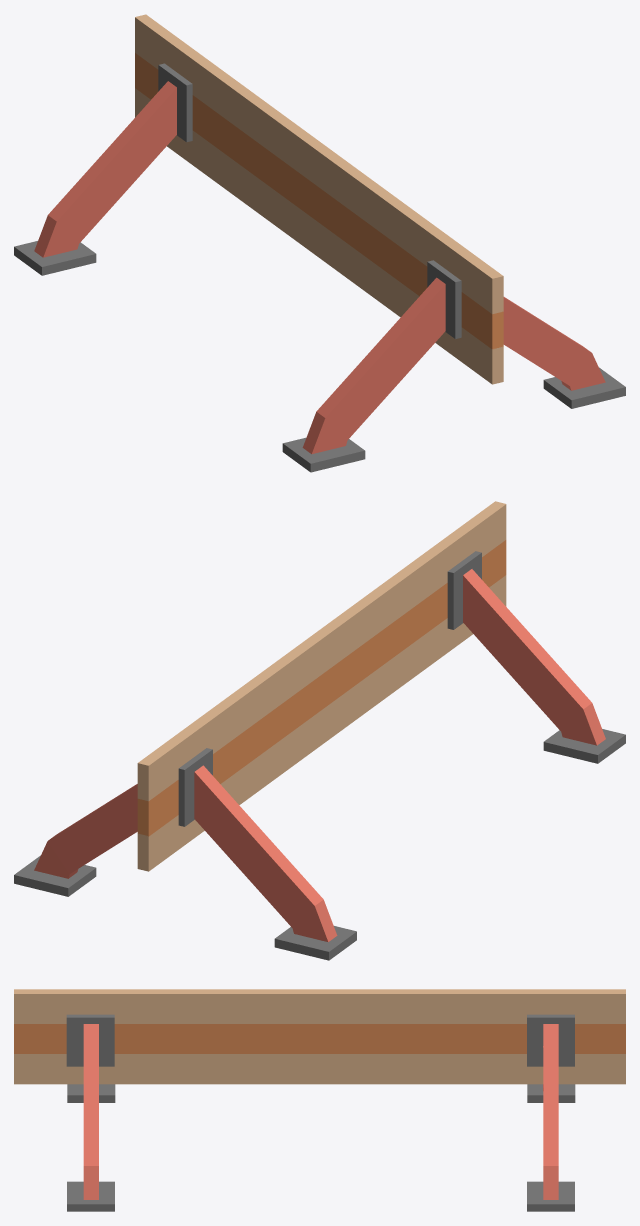
Rendered from stopper.fbx.
3 views of the same model, one above another, from view 1: azimuth 30°, elevation 25°; view 2: azimuth 150°, elevation 25°; view 3: azimuth 270°, elevation 25° (orthographic). The views are drawn at different scales.
Visible parts, largest first — view 1: Cube.013; view 2: Cube.013; view 3: Cube.013.
Part boxes in pixels (x1=…): Cube.013: x1=14, y1=14, x2=625, y2=472; Cube.013: x1=14, y1=501, x2=625, y2=960; Cube.013: x1=14, y1=989, x2=625, y2=1211.
Size of the model in its own units: 306 by 167 by 601.
